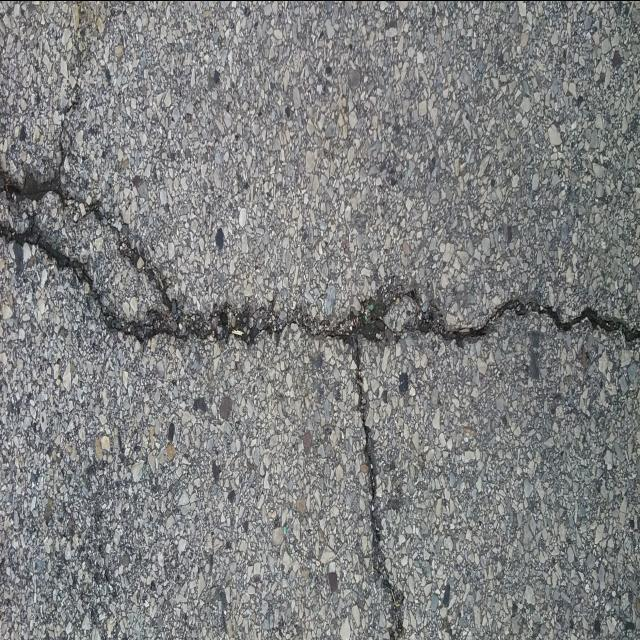Crack: (0, 216, 640, 640), (0, 81, 174, 308)
